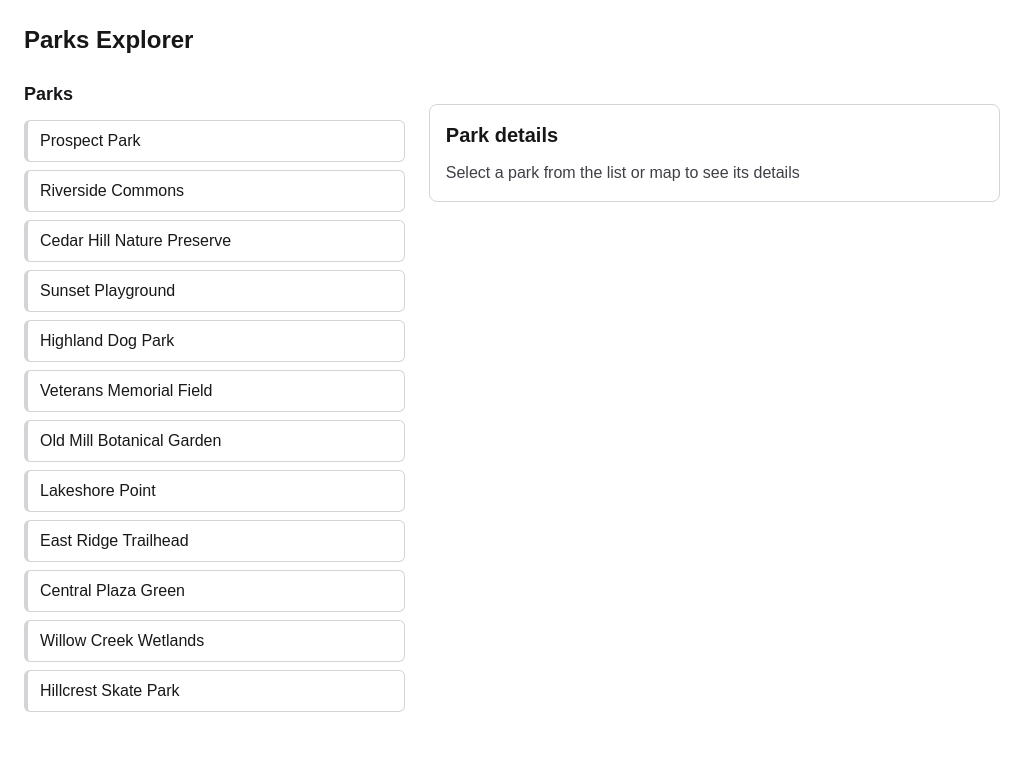
Scenario: [DES-001][AC-001] list, nothing selected, and details › [TEST-032][AC-001][DES-001][TASK-014] activating Prospect Park shows that park's details and marks only it as current
The image size is (1024, 768).
What coordinates should you click on to do the following:
click the button "Prospect Park"
I would click on:
 (90, 140)
Its box is [24,120,405,162].
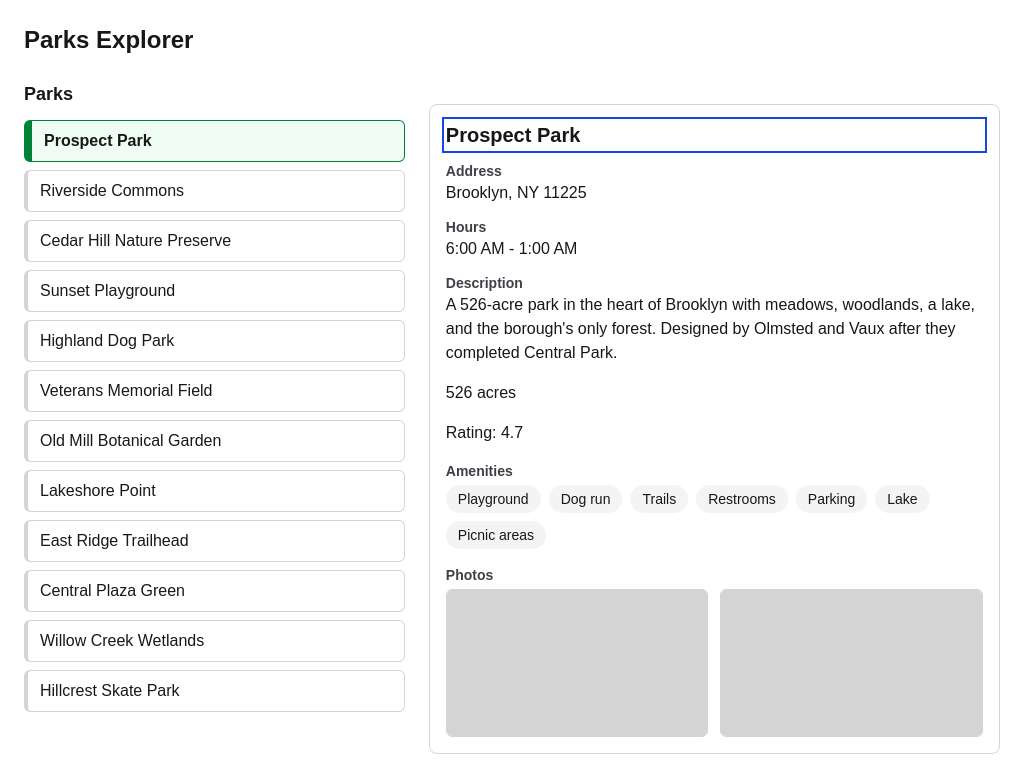
Check: the heading "Prospect Park" is shown, box [446,124,580,146]
Check: the element "Prospect Park" is shown, box [429,104,1000,754]
Check: the text "Select a park from the list or map to see its details" is gone
